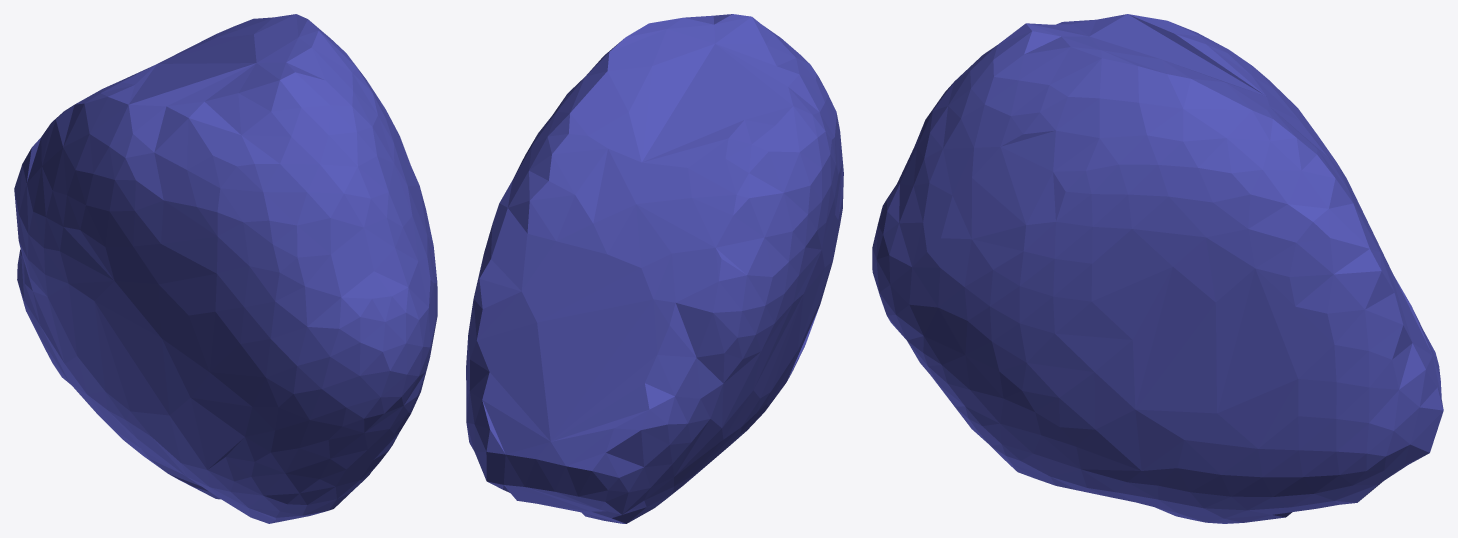
File: Model_10356_LH__Dorsomedial_hypothalamic_nucleus_(DM).obj
3 renders of one model, left to right at view 1: azimuth 30°, elevation 25°; view 2: azimuth 150°, elevation 25°; view 3: azimuth 270°, elevation 25°, orthographic. The views are drawn at different scales.
Bounding box in the file's own units: 0.8054 × 1.3 × 1.38.
